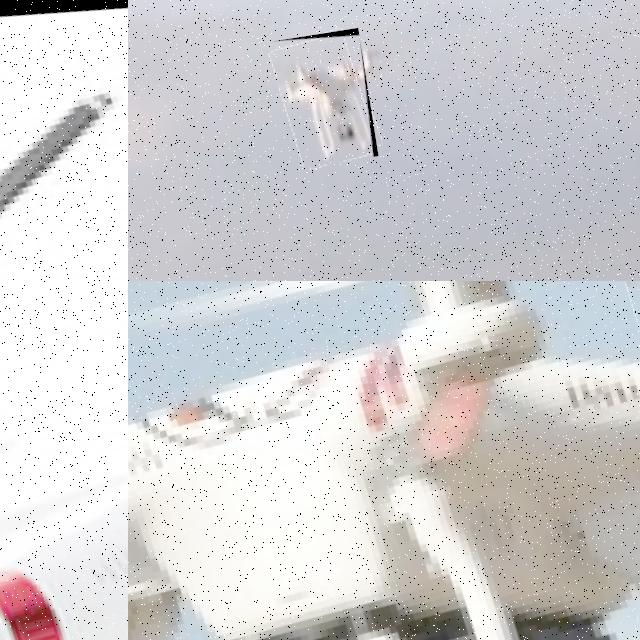0: (272, 28, 379, 170)
drone: (128, 281, 640, 640), (0, 281, 128, 640), (0, 0, 128, 281)
